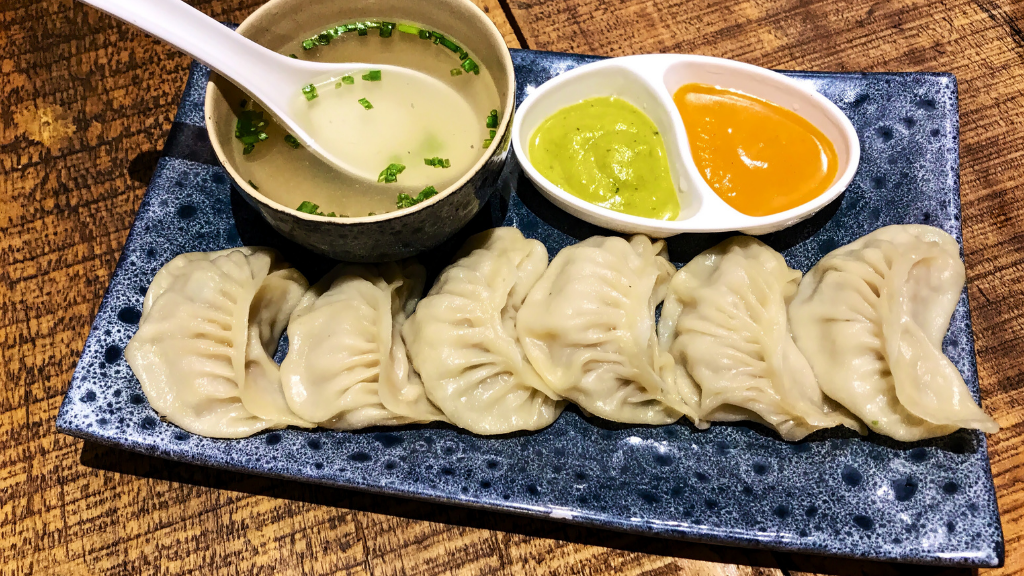momo: (795, 225, 1001, 441), (661, 236, 863, 450), (123, 243, 321, 443), (409, 222, 566, 435), (521, 230, 681, 436), (285, 268, 446, 431)
